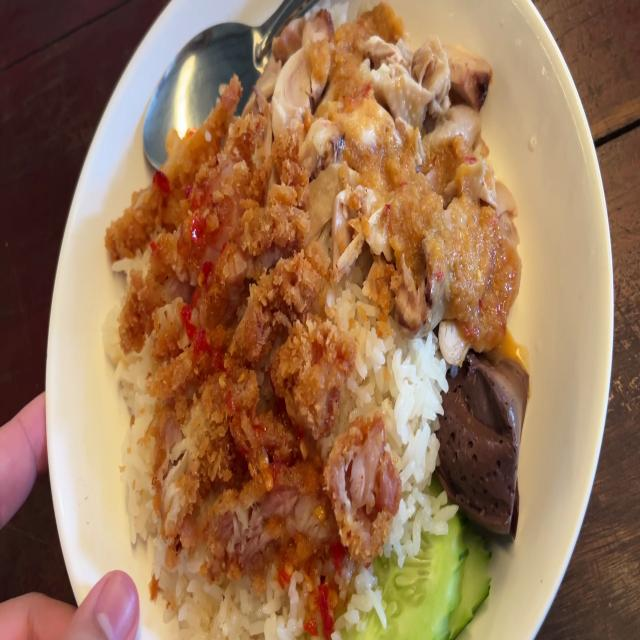boiled_chicken: (272, 8, 512, 320)
boiled_chicken_blood_jelly: (440, 343, 527, 538)
chicken_rice: (107, 12, 536, 640)
cucumber: (358, 489, 476, 640)
fried_chicken: (125, 128, 386, 556)
